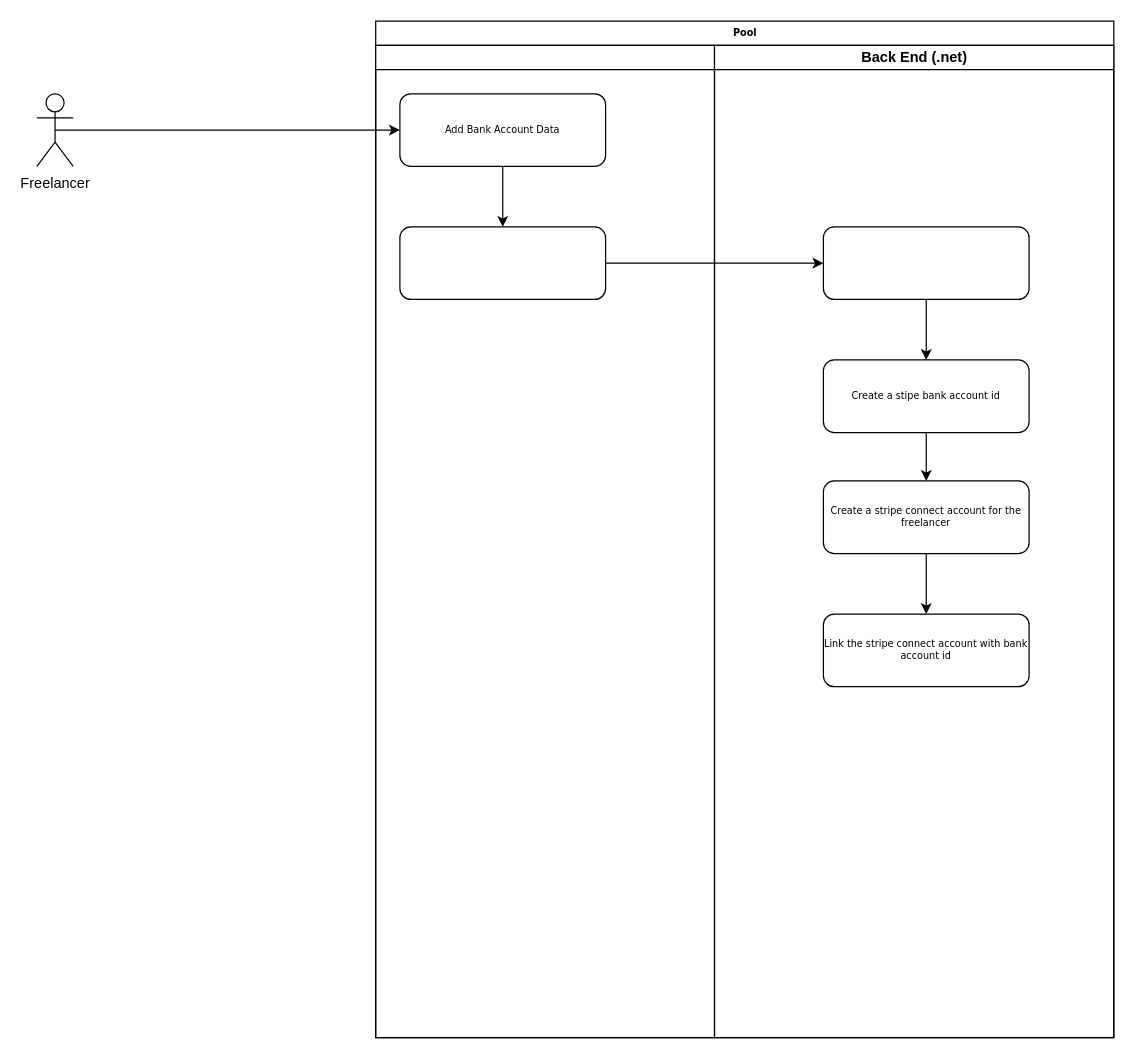
This 1135x1059 diagram has some shape labels left out. Here are the shapes that lost their labels. From the top down, the box of each, then its label:
(399, 226, 606, 299): Create bank token
(822, 226, 1029, 299): Save bank data in database
(374, 44, 715, 1038): Client Side (Flutter)
